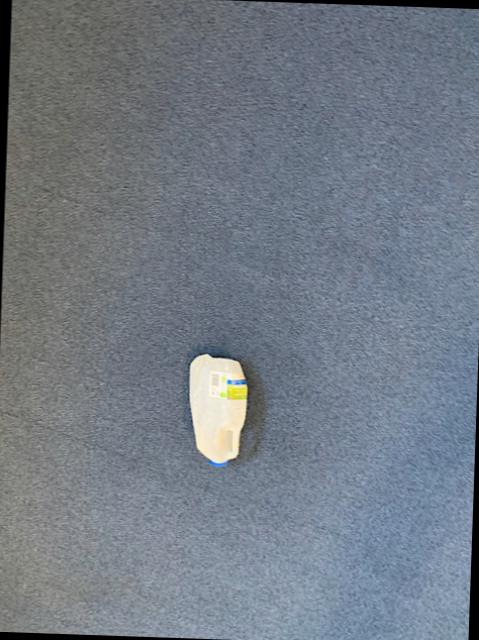plastic: (190, 355, 247, 466)
